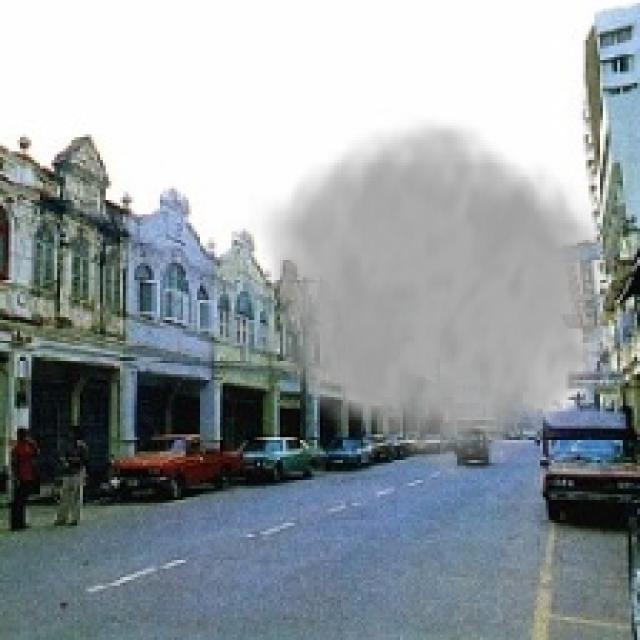smoke: (246, 109, 623, 488)
